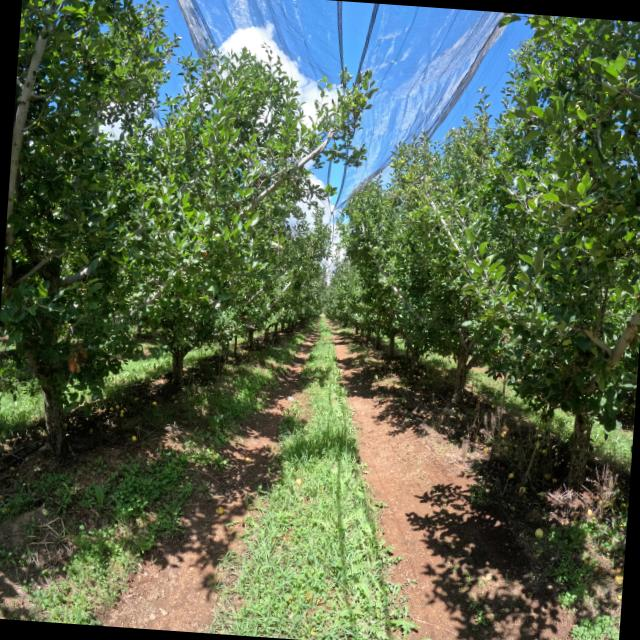-FireBlight-: (64, 341, 89, 374)
